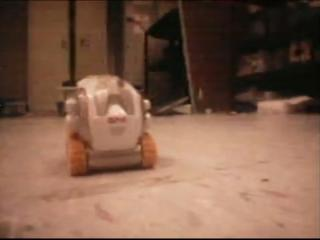cozmo: (62, 73, 158, 177)
